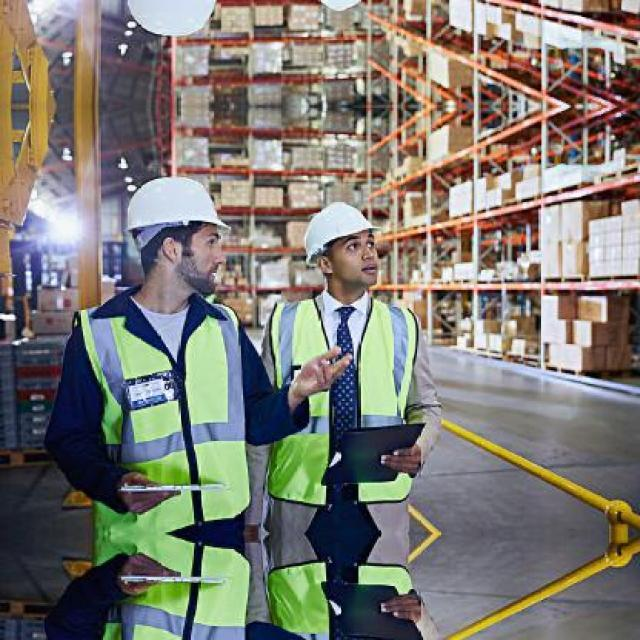reflective_jacket: (68, 289, 257, 530), (263, 289, 429, 513)
safety_helmet: (113, 168, 235, 243), (295, 195, 379, 267)
